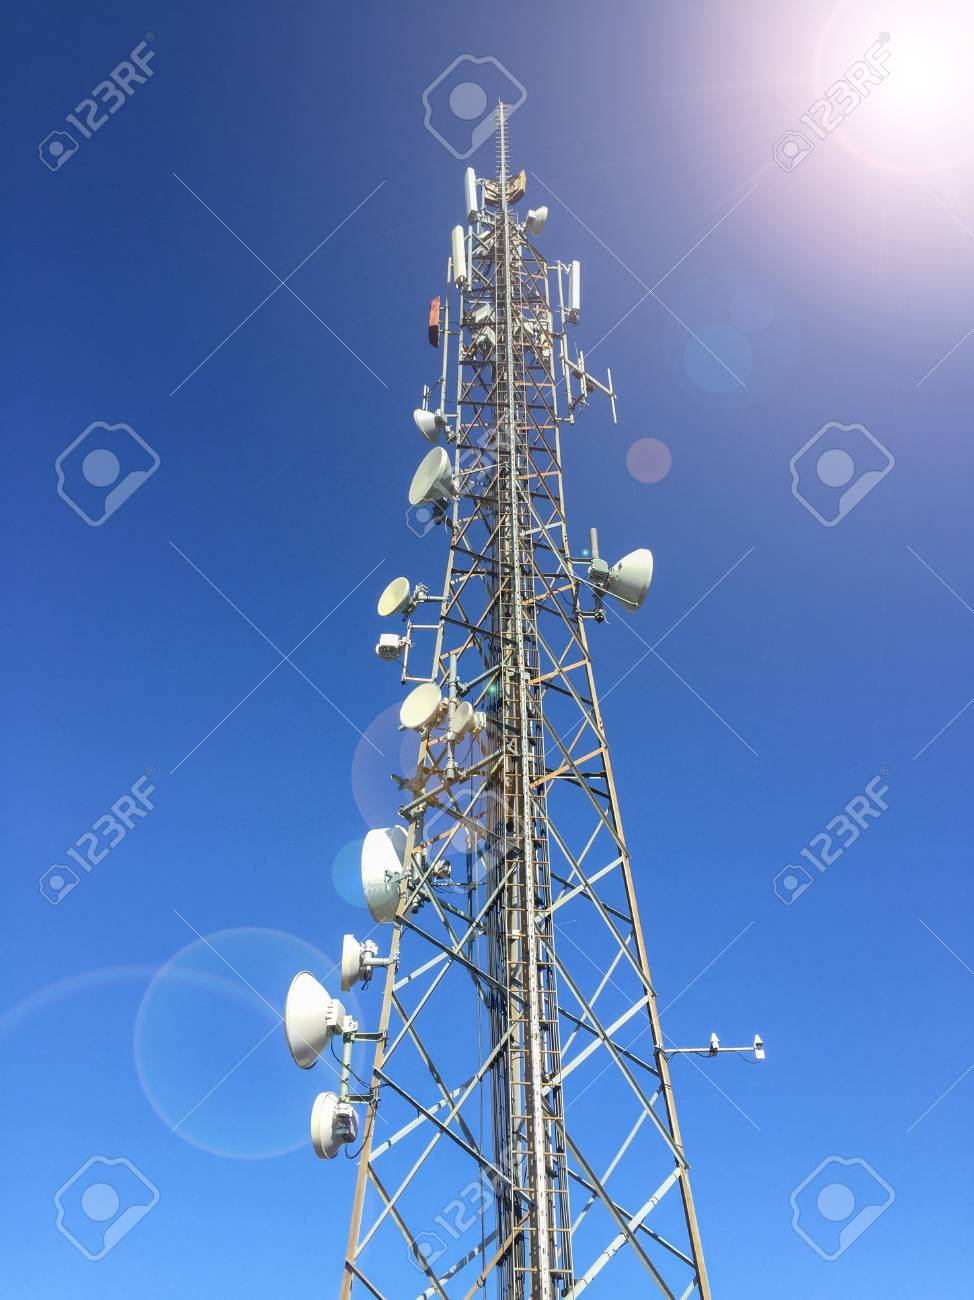ba: (381, 430, 467, 530), (280, 967, 356, 1064), (589, 549, 667, 634), (286, 1089, 363, 1169), (378, 682, 447, 753), (350, 569, 423, 634)
